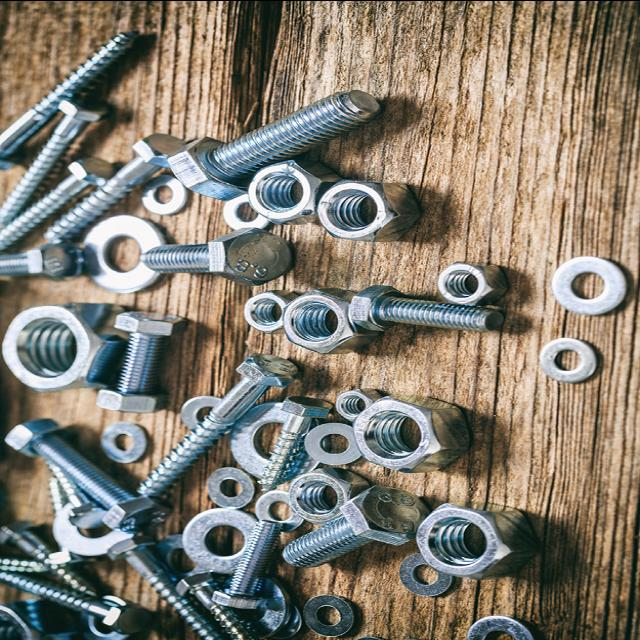Bolt: (168, 86, 390, 200), (22, 432, 173, 533), (281, 485, 428, 569), (141, 225, 297, 285), (347, 284, 505, 334), (210, 516, 286, 608), (115, 308, 191, 392), (0, 238, 88, 280)
Nut: (1, 300, 131, 393), (415, 501, 539, 577), (354, 394, 469, 472), (286, 284, 380, 354), (319, 178, 421, 242), (246, 159, 342, 225), (286, 466, 372, 525), (436, 259, 510, 305), (4, 417, 73, 457), (242, 288, 296, 332), (93, 389, 169, 414), (334, 387, 384, 419)
